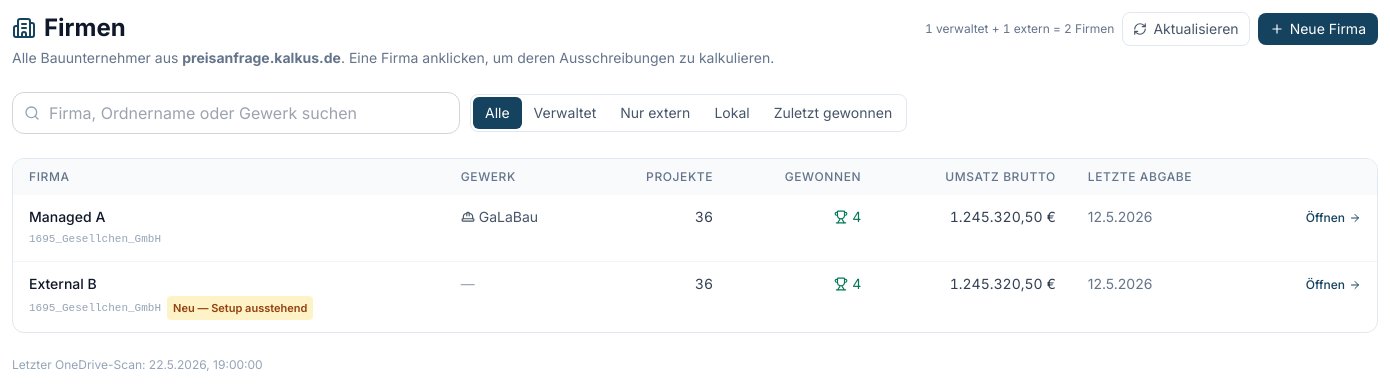
Test case: Firmen.tsx — filters › "Verwaltet" tab hides external rows
This screenshot has width=1390, height=388.
Expected: the link "Managed A" is shown, x1=29 y1=208 x2=105 y2=225
Click the button "Verwaltet" at (565, 113), box x1=522 y1=97 x2=608 y2=129
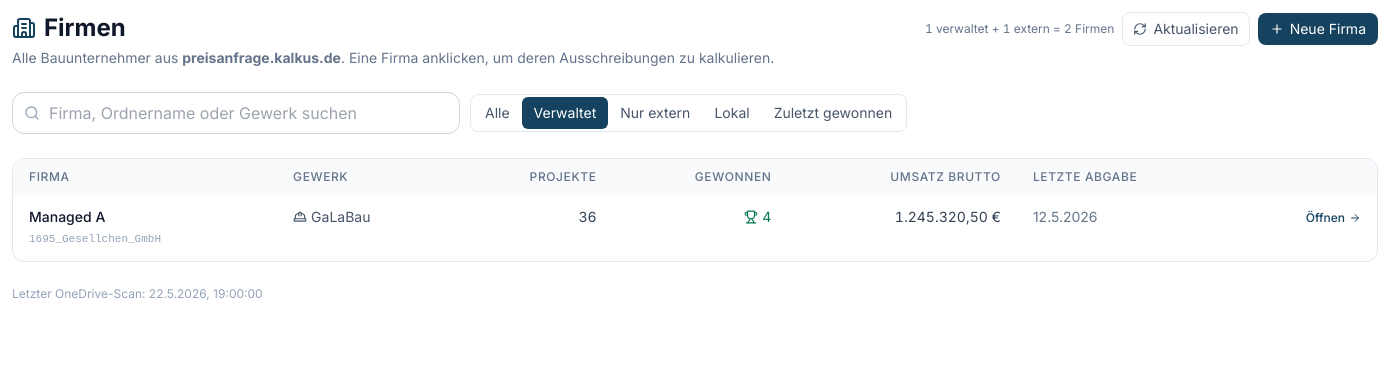
Expected: the link "Managed A" is shown, x1=29 y1=208 x2=105 y2=225
Expected: the link "External B" is gone
